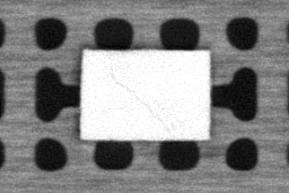DIE_CRACK: (110, 72, 170, 132)
